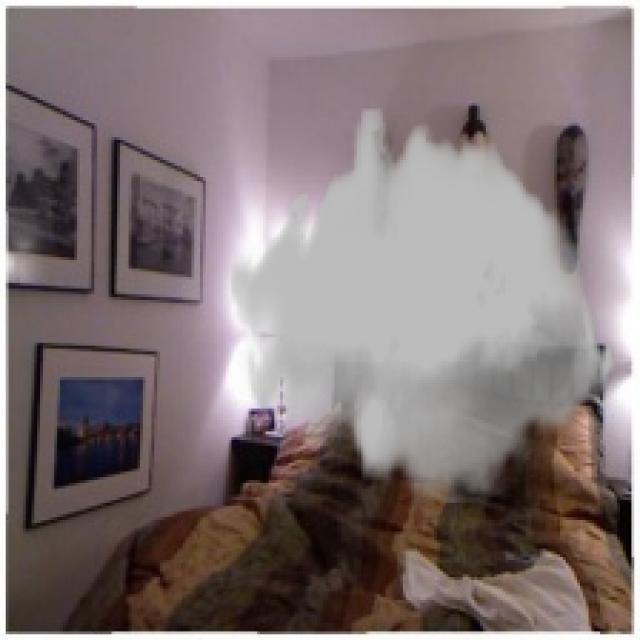Smoke: (228, 108, 618, 503)
